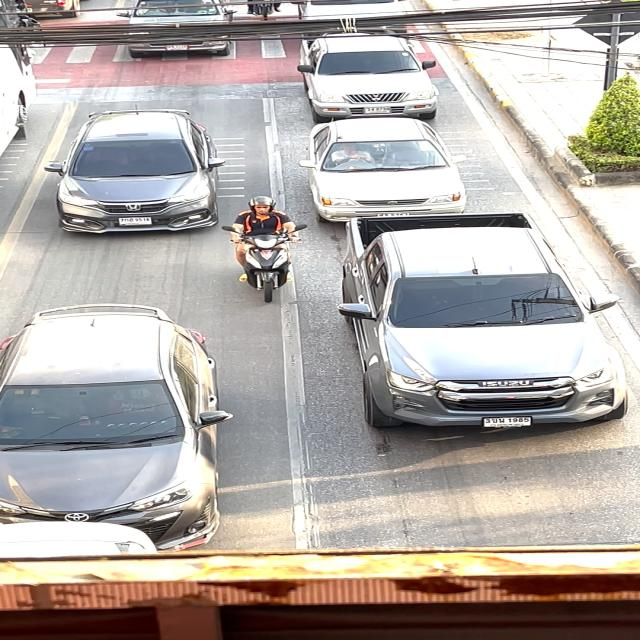car: (314, 209, 629, 436), (0, 300, 243, 554), (43, 104, 225, 236), (290, 114, 464, 216), (284, 38, 446, 120), (113, 0, 234, 60), (286, 0, 440, 41), (0, 522, 183, 556)
